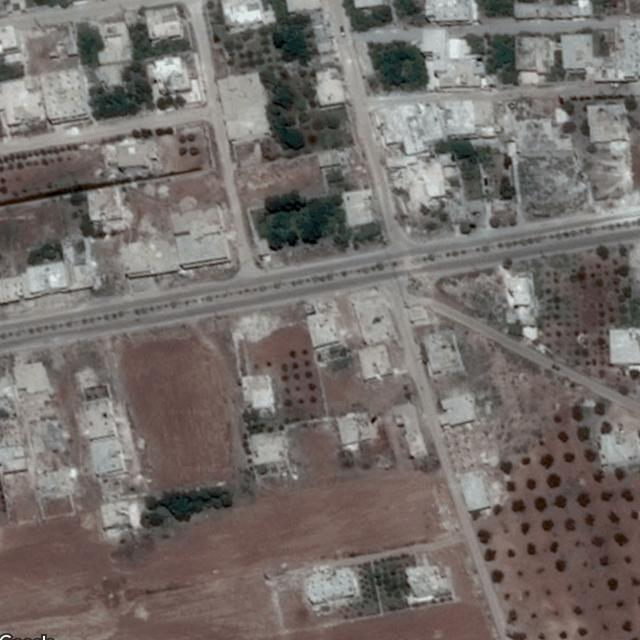damaged_building: (25, 418, 79, 499), (391, 161, 445, 217), (306, 299, 345, 347), (229, 312, 290, 341)
